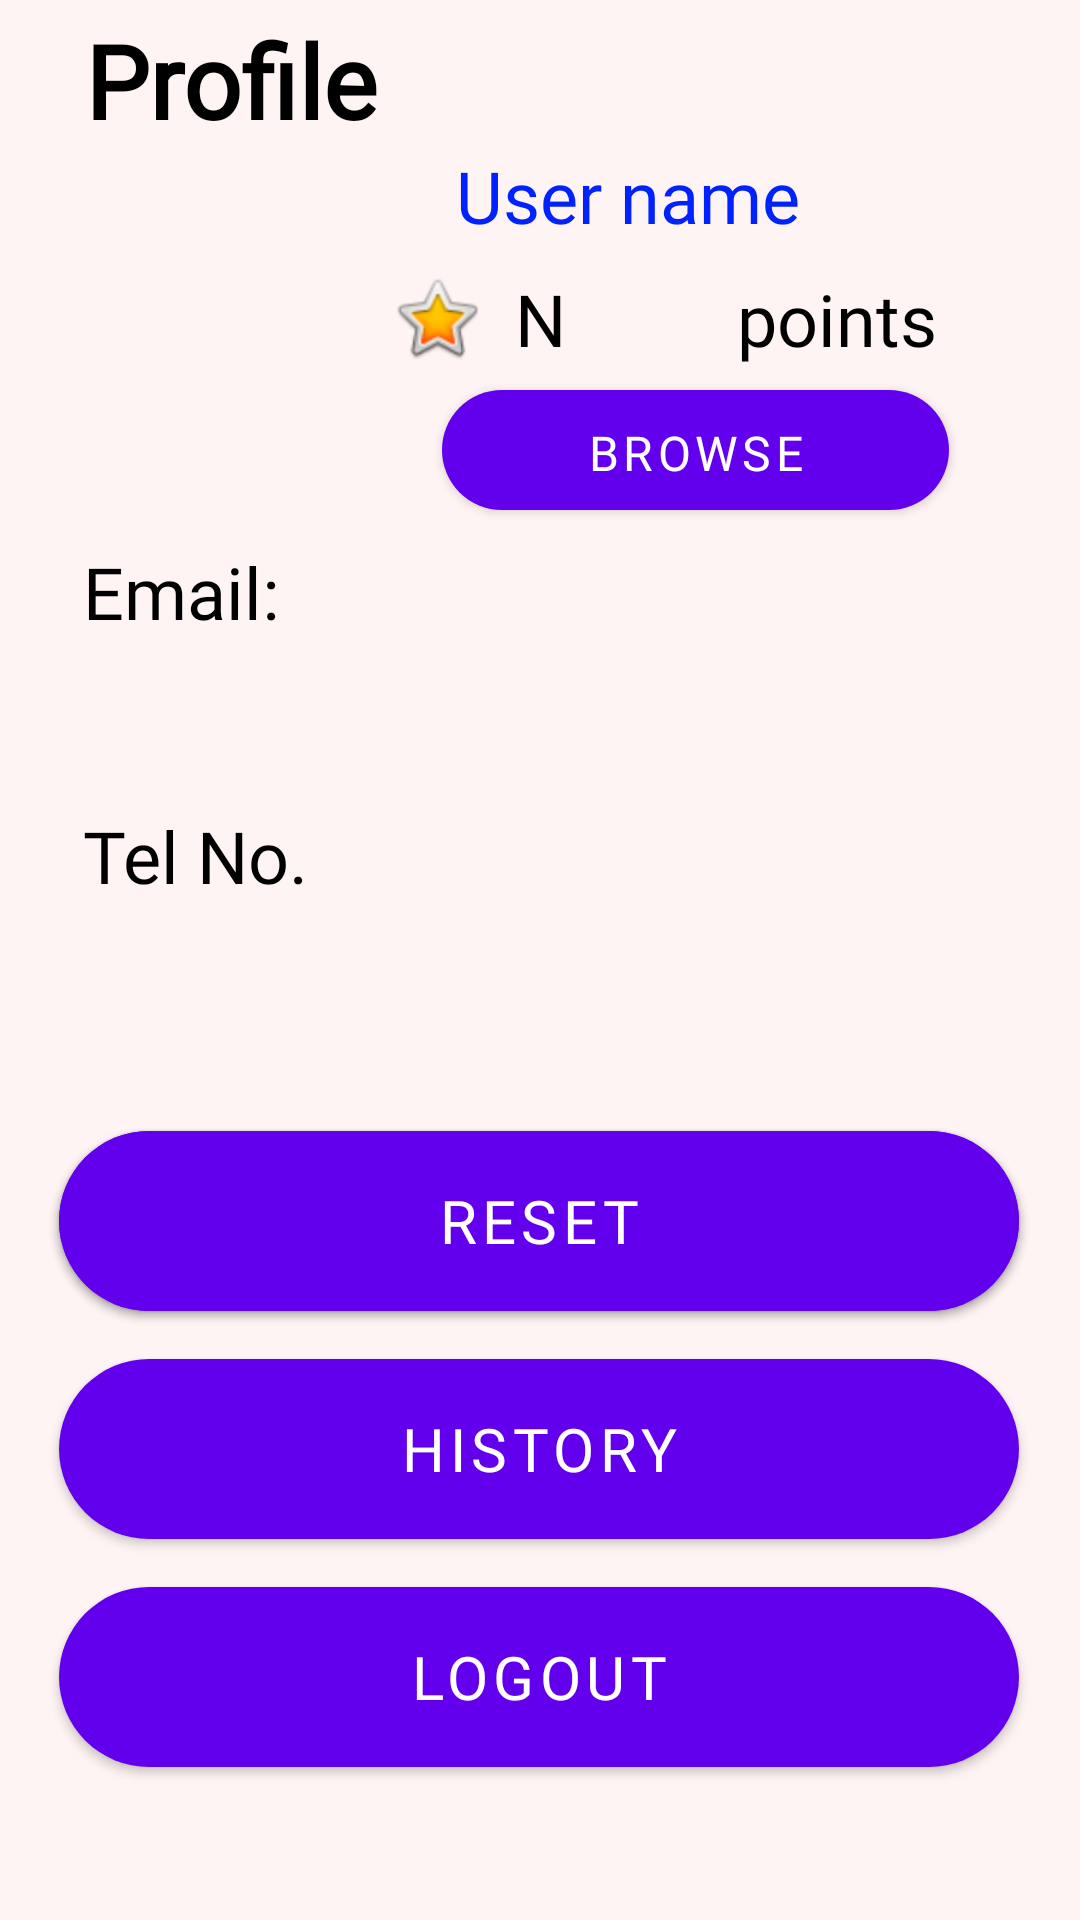

Icons on this 1080*1920 Android screen, each with its box as (x1, y1, x2, y2):
star on: (398, 280, 478, 358)
